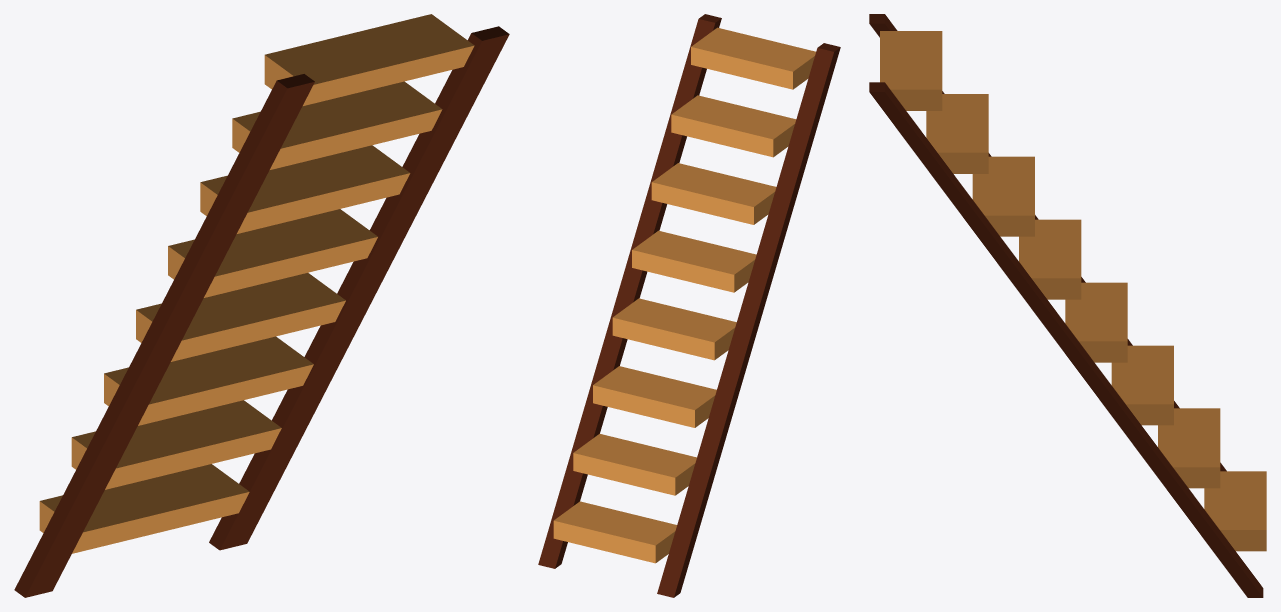
File: Ladder.fbx
The picture shows the model from 3 angles, left to right: view 1: azimuth 30°, elevation 25°; view 2: azimuth 150°, elevation 25°; view 3: azimuth 270°, elevation 25°; orthographic projection. The views are drawn at different scales.
Visible parts, largest first — view 1: Node 0; view 2: Node 0; view 3: Node 0.
Boxes of the visible parts, bbox=[...] form: Node 0: bbox=[14, 14, 509, 597]; Node 0: bbox=[538, 14, 840, 597]; Node 0: bbox=[869, 14, 1266, 597].
Bounding box in the file's own units: 1.85 × 2.59 × 0.8592.
